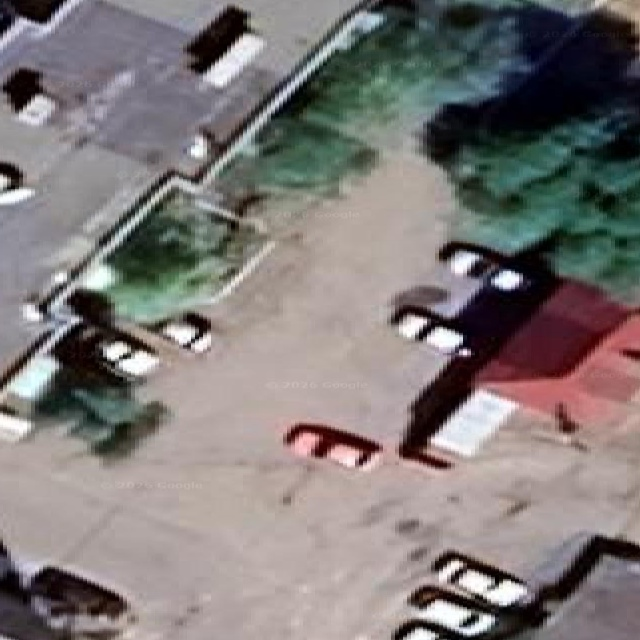car: (0, 540, 135, 637), (20, 564, 134, 633), (55, 322, 159, 382), (432, 552, 527, 606), (407, 587, 496, 635), (284, 424, 380, 468), (440, 244, 524, 291), (391, 307, 467, 355), (96, 335, 159, 380), (151, 312, 211, 352), (397, 444, 452, 470), (0, 161, 32, 204), (392, 620, 463, 639), (446, 247, 492, 276), (489, 268, 524, 291)
